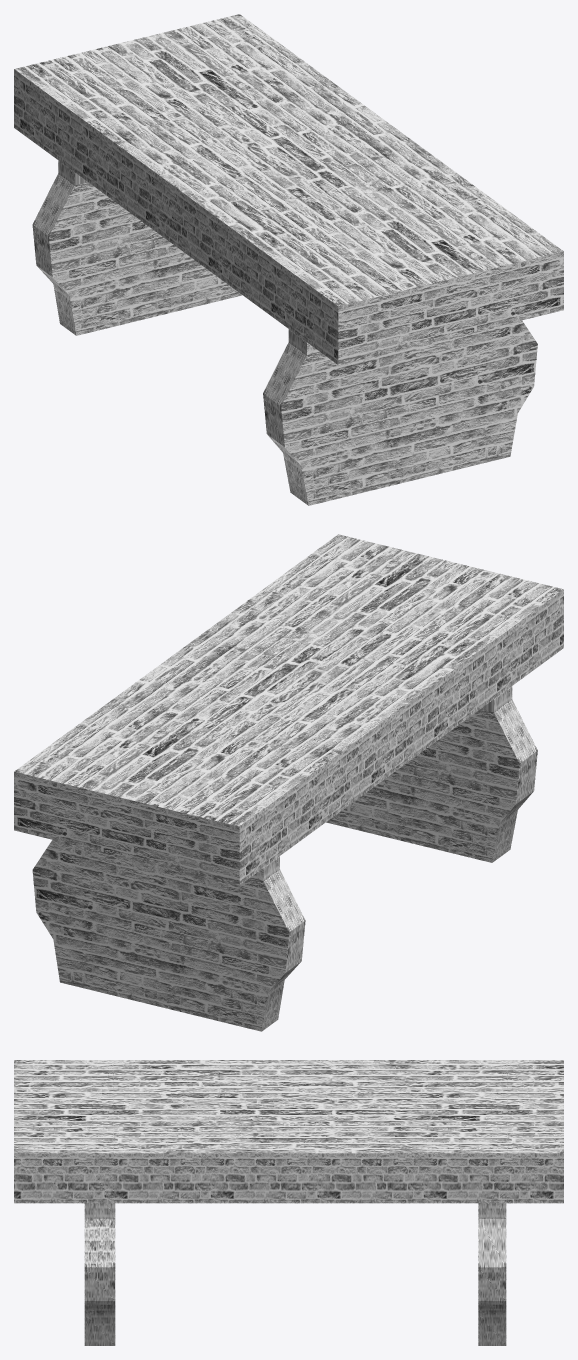
File: stonebench.fbx
The picture shows the model from 3 angles, top to bottom: view 1: azimuth 30°, elevation 25°; view 2: azimuth 150°, elevation 25°; view 3: azimuth 270°, elevation 25°; orthographic projection. The views are drawn at different scales.
Visible parts, largest first — view 1: stonebench; view 2: stonebench; view 3: stonebench.
Part boxes in pixels (x1,y1,x2,y2): stonebench: (14,14,563,505); stonebench: (14,534,563,1031); stonebench: (14,1060,563,1345).
Size of the model in its own units: 1.67 by 1.45 by 3.66.
